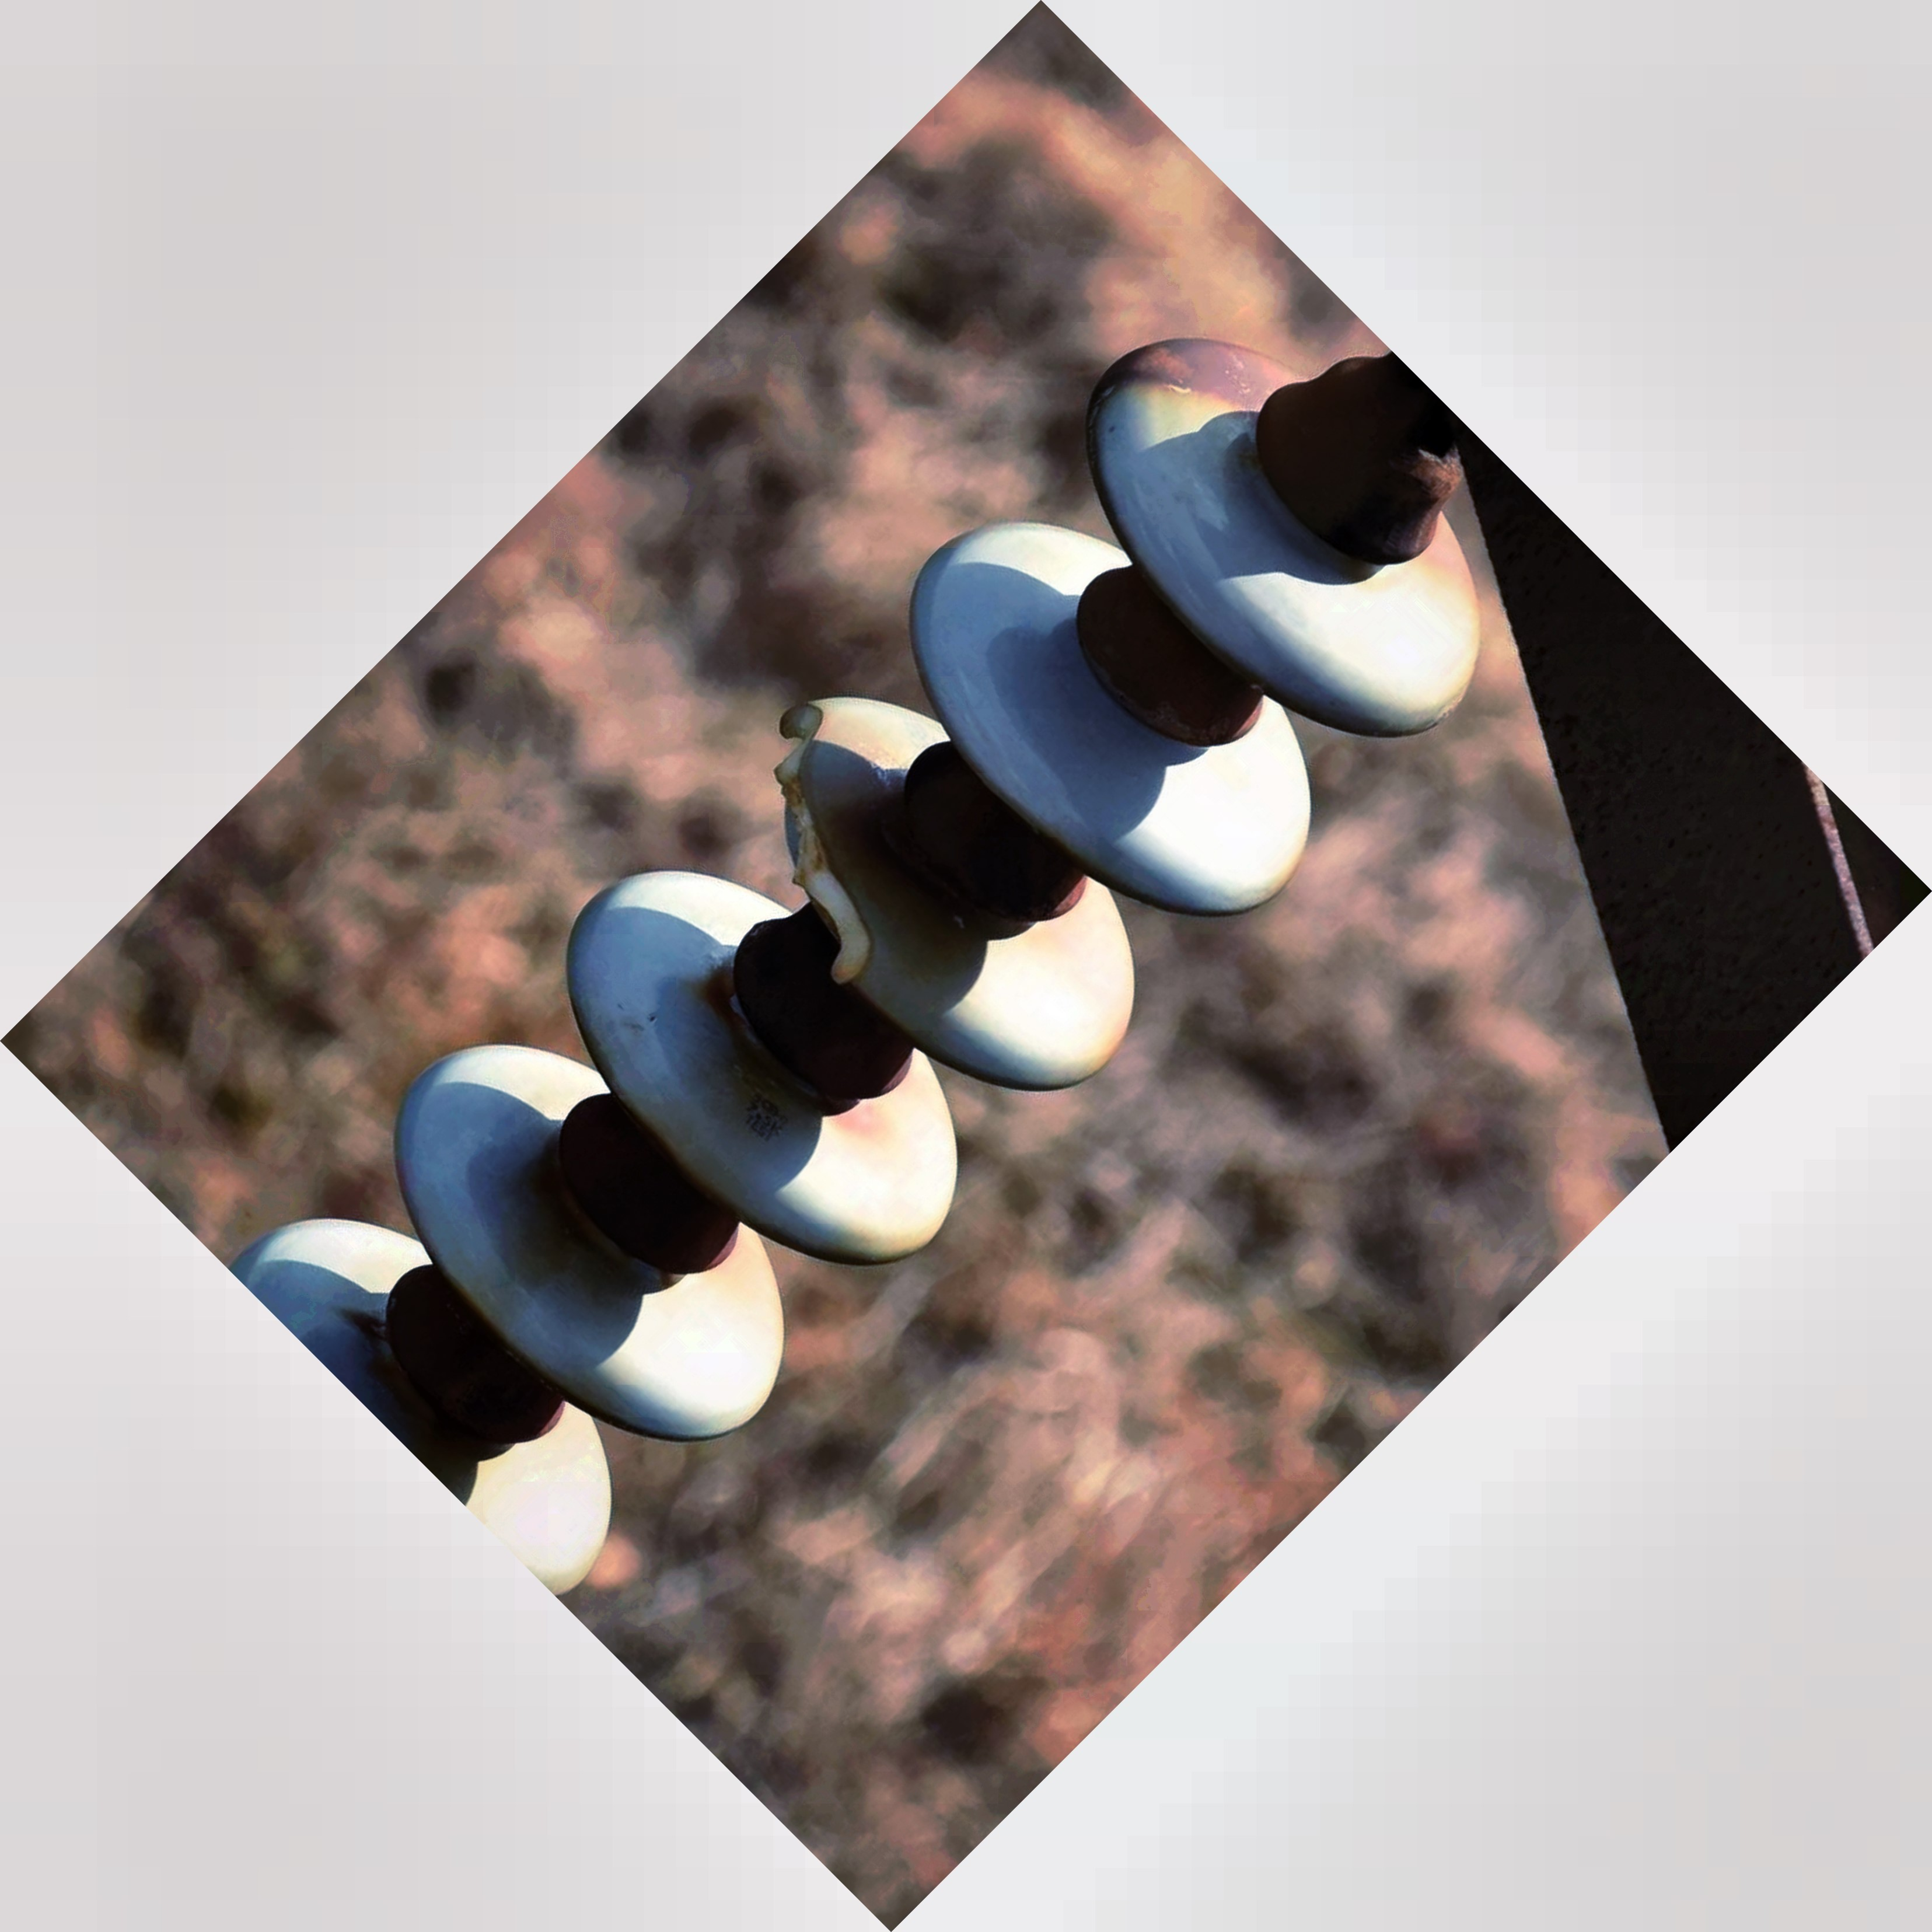insulator breakage: (750, 688, 1164, 1104)
